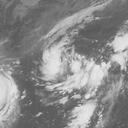cyclone: (43, 9, 126, 93)
